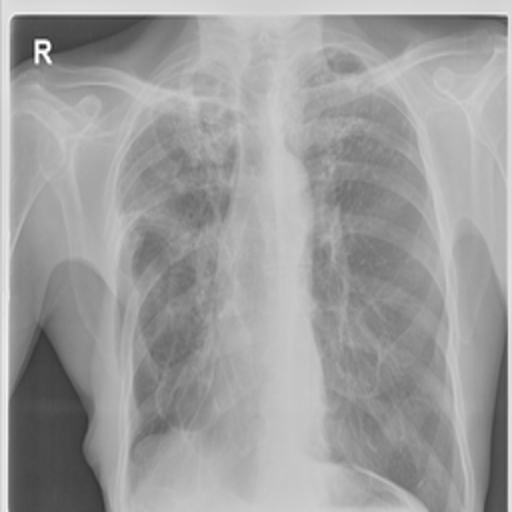TB: (114, 79, 235, 437), (311, 86, 378, 309)
